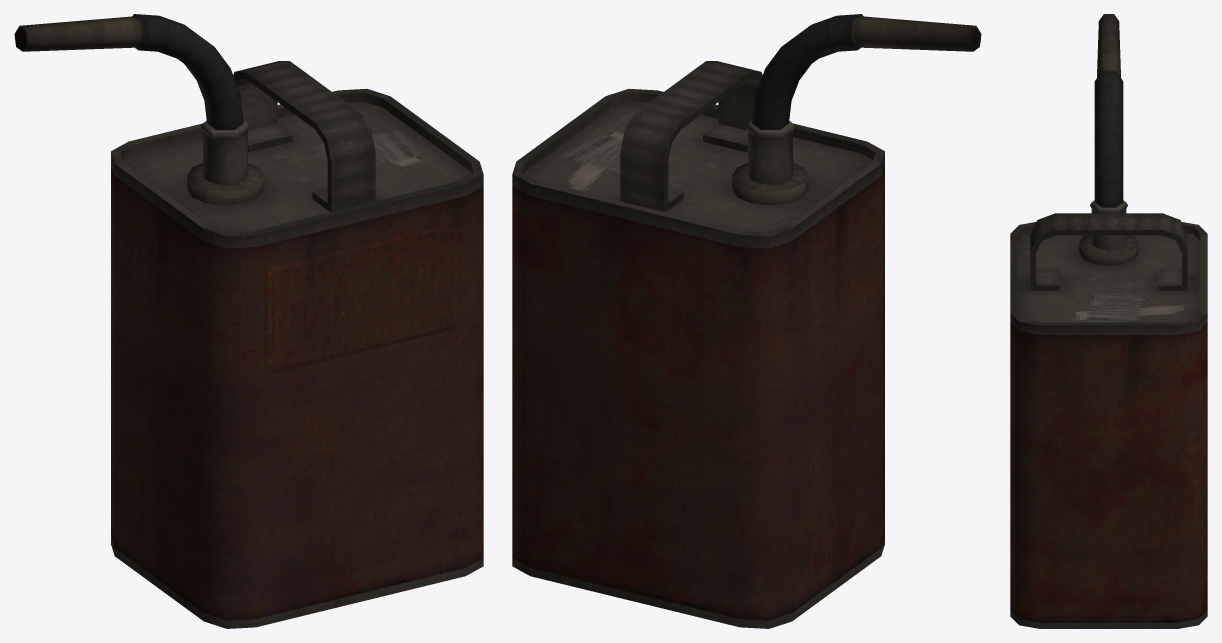
The model's file is jerrycan_mx_1.glb.
3 renders of one model, left to right at view 1: azimuth 30°, elevation 25°; view 2: azimuth 150°, elevation 25°; view 3: azimuth 270°, elevation 25°, orthographic. The views are drawn at different scales.
Visible parts, largest first — view 1: jerrycan_mx_1; view 2: jerrycan_mx_1; view 3: jerrycan_mx_1.
Part boxes in pixels (bbox=[...]): jerrycan_mx_1: bbox=[14, 14, 483, 628]; jerrycan_mx_1: bbox=[512, 14, 981, 628]; jerrycan_mx_1: bbox=[1010, 14, 1207, 628].
Bounding box in the file's own units: 0.4522 × 0.6173 × 0.24.
1 material, 1 textured.
